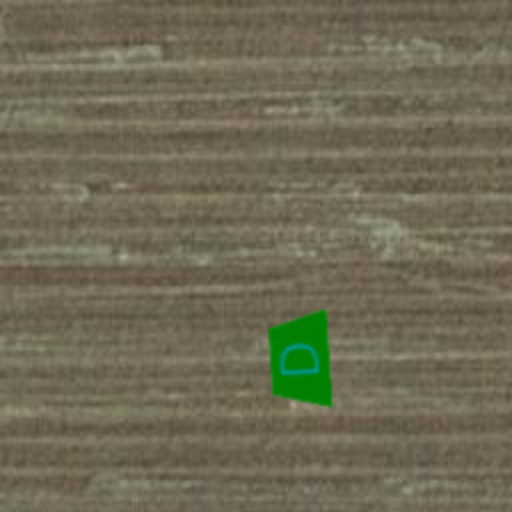trapezoid: (246, 306, 354, 414)
